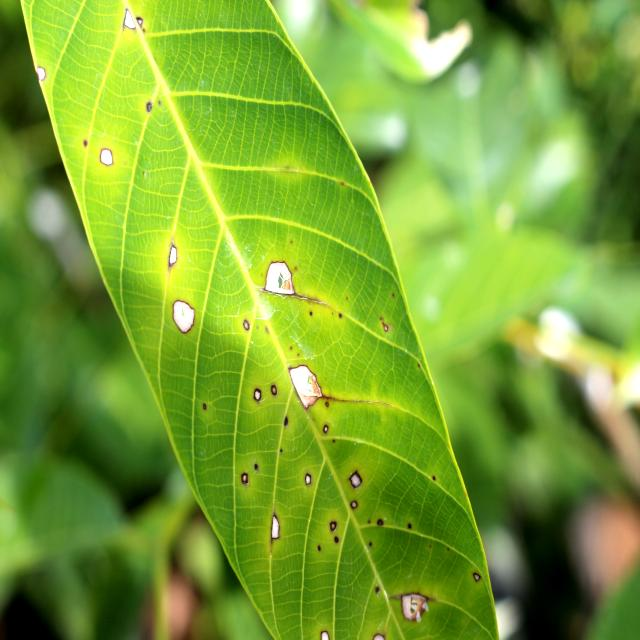Colletotrichum: (172, 300, 195, 334), (100, 148, 113, 166), (168, 245, 178, 266), (350, 471, 362, 488), (37, 66, 46, 81), (254, 388, 262, 402), (320, 630, 330, 640), (241, 472, 248, 485), (473, 572, 481, 583), (330, 521, 337, 532), (305, 474, 312, 485), (271, 384, 277, 396), (147, 101, 153, 113), (243, 320, 250, 330), (136, 17, 143, 27), (323, 424, 329, 434), (351, 501, 358, 508), (377, 518, 383, 526), (284, 417, 288, 426), (334, 536, 338, 544), (384, 324, 388, 332), (254, 464, 258, 471), (325, 402, 329, 407)
